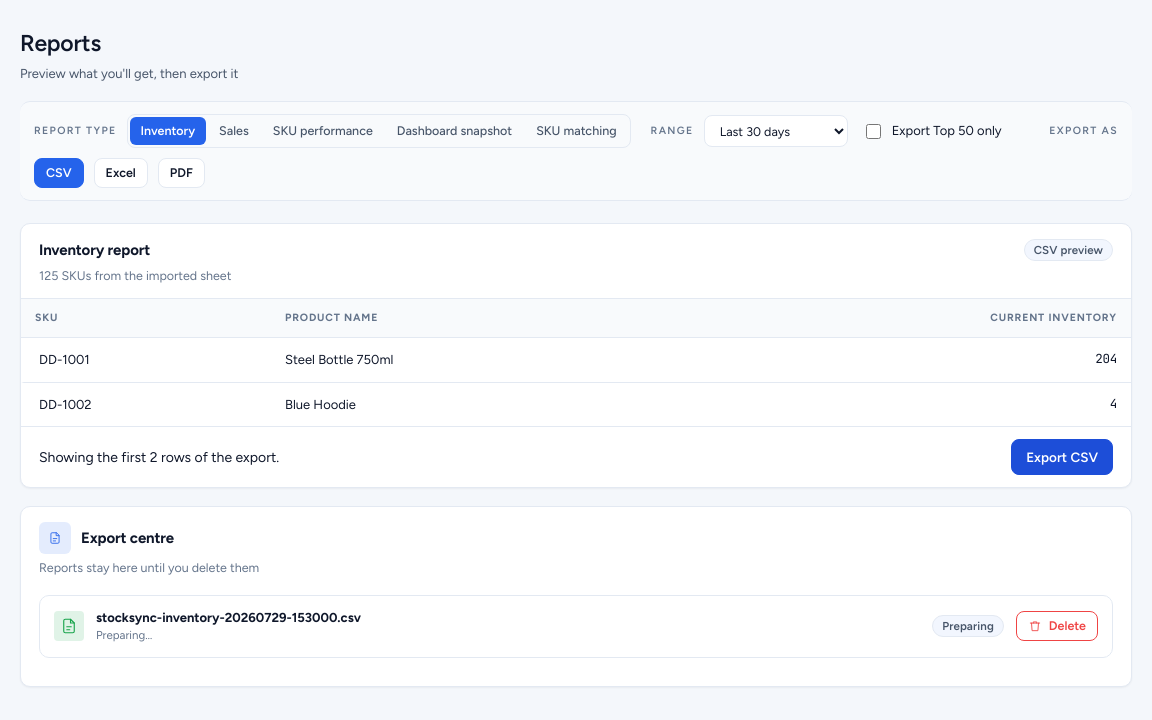
completion notification › toasts the reason when polling sees preparing become failed
This screenshot has width=1152, height=720.
Expected: the text "DD-1001" is shown, x1=21 y1=338 x2=271 y2=382
Click the button "Export CSV" at (1062, 457), box x1=1011 y1=439 x2=1113 y2=475
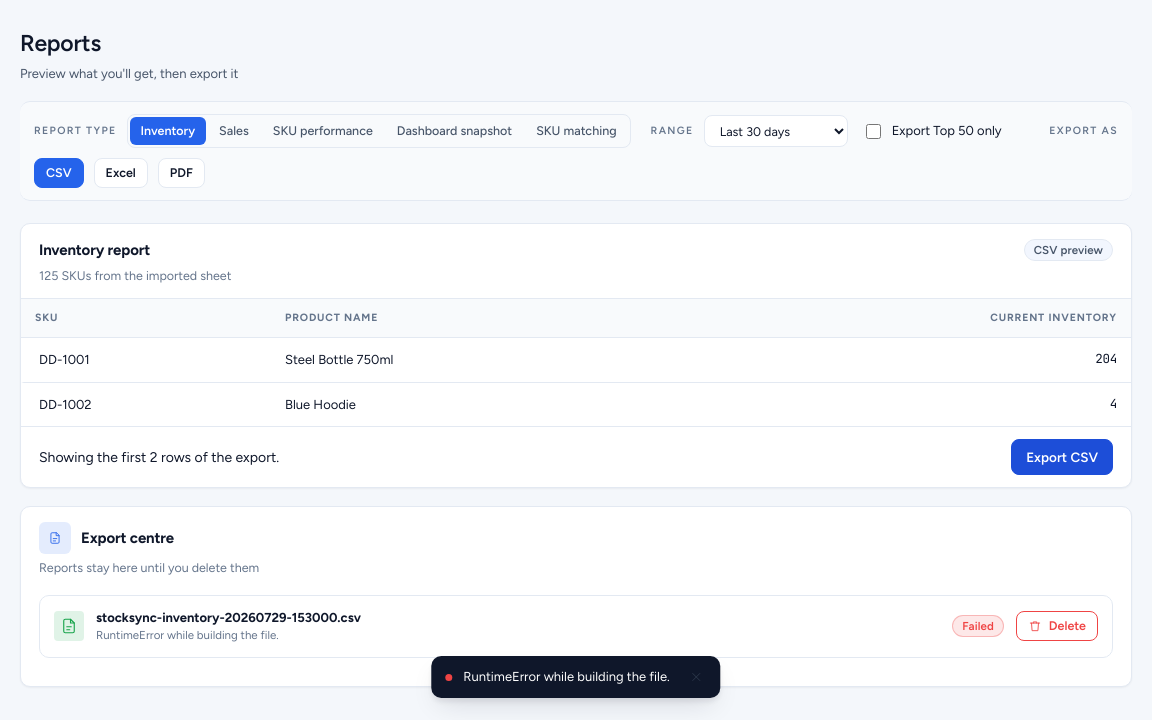
Now the 2nd text "RuntimeError while building the file." is shown, box x1=463 y1=667 x2=670 y2=687
